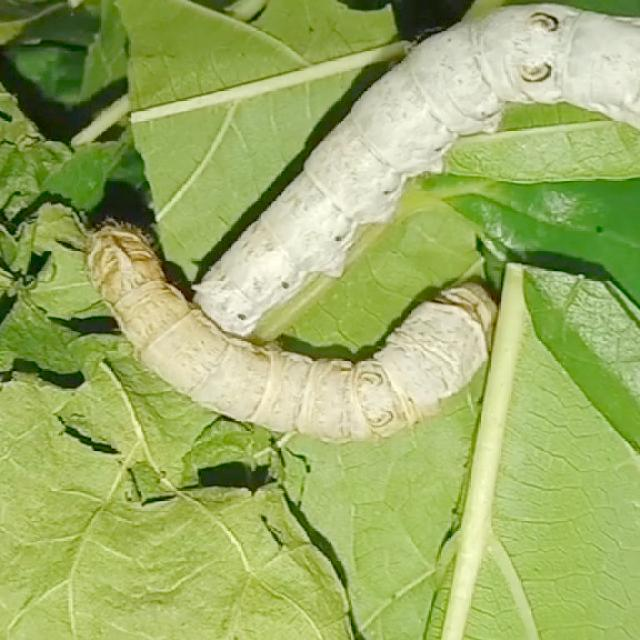Grasserie: (74, 210, 544, 476)
